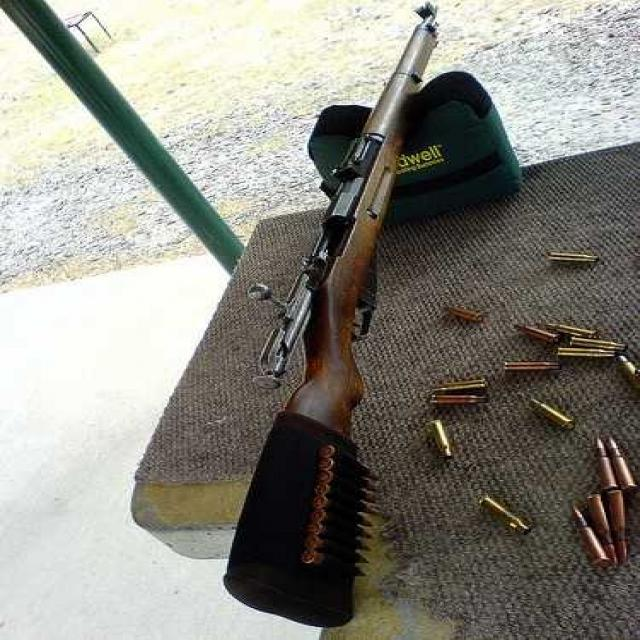weapon: (225, 0, 488, 632)
